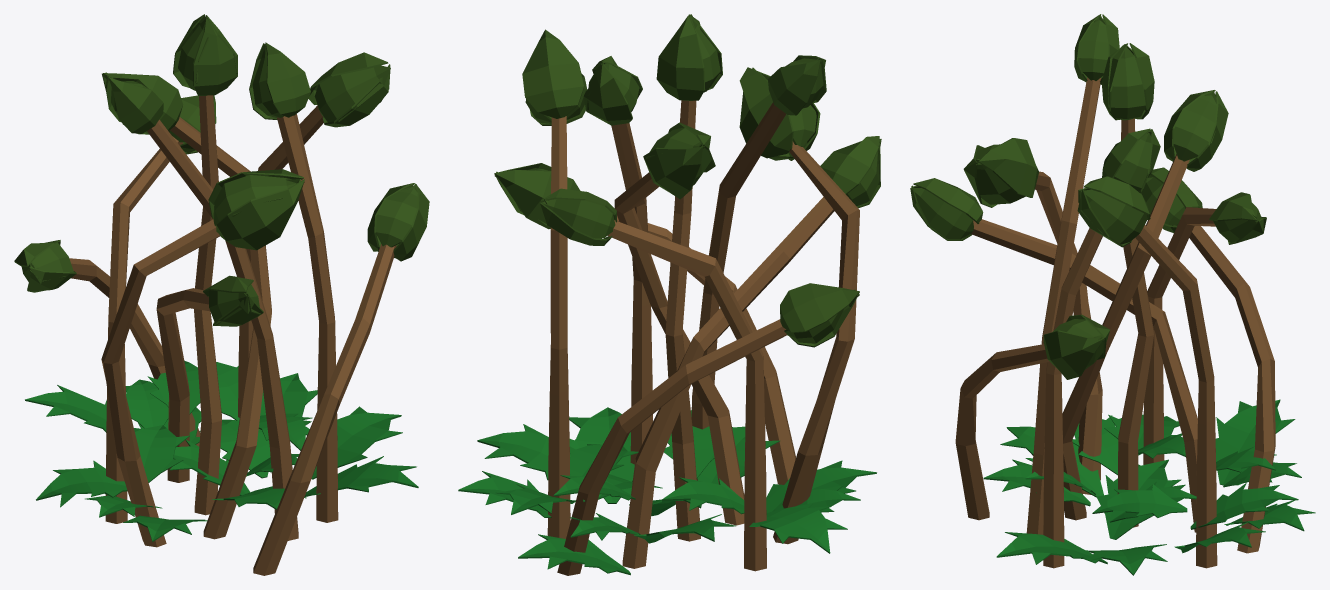
Rendered from Rose_1.fbx.
The picture shows the model from 3 angles, left to right: view 1: azimuth 30°, elevation 25°; view 2: azimuth 150°, elevation 25°; view 3: azimuth 270°, elevation 25°; orthographic projection. The views are drawn at different scales.
Visible parts, largest first — view 1: Rose_1; view 2: Rose_1; view 3: Rose_1.
Part boxes in pixels (bbox=[...]): Rose_1: bbox=[14, 14, 429, 575]; Rose_1: bbox=[458, 14, 881, 575]; Rose_1: bbox=[910, 14, 1315, 575].
Size of the model in its own units: 50.19 by 64.13 by 49.02.
